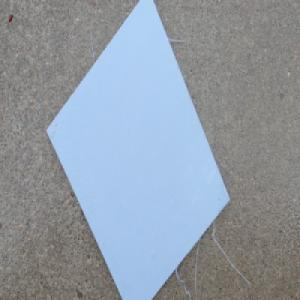PaintChip: (44, 0, 231, 300)
